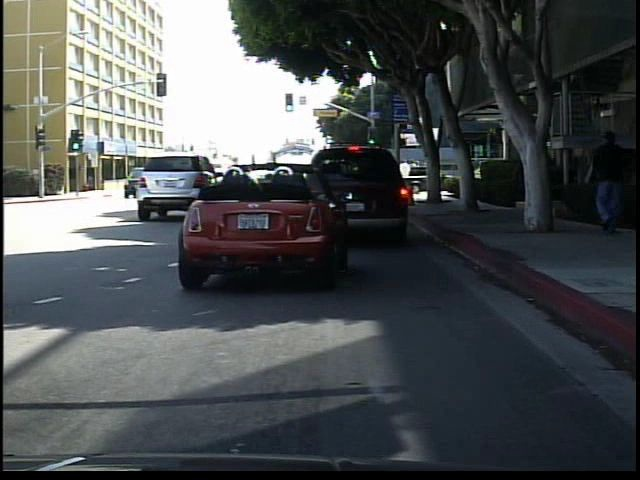person: (584, 132, 631, 239), (514, 144, 543, 226)
